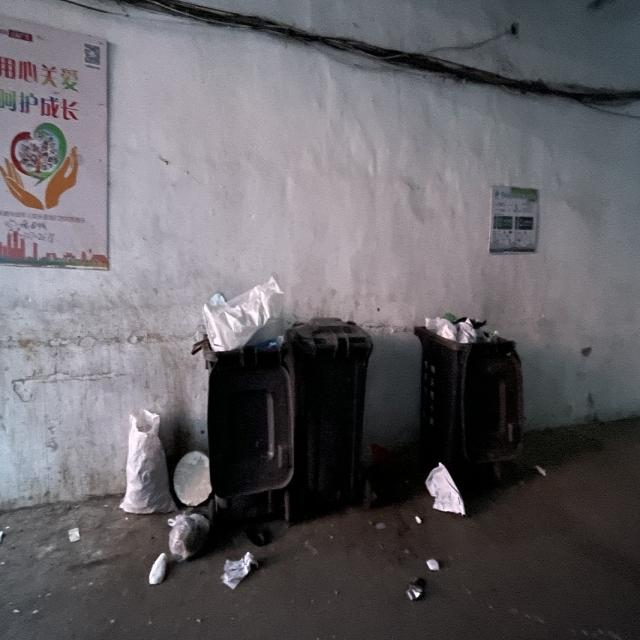garbage: (118, 409, 257, 591), (402, 460, 465, 600)
garbage_bin: (287, 313, 373, 516)
overflow: (190, 276, 296, 525), (413, 313, 523, 491)
